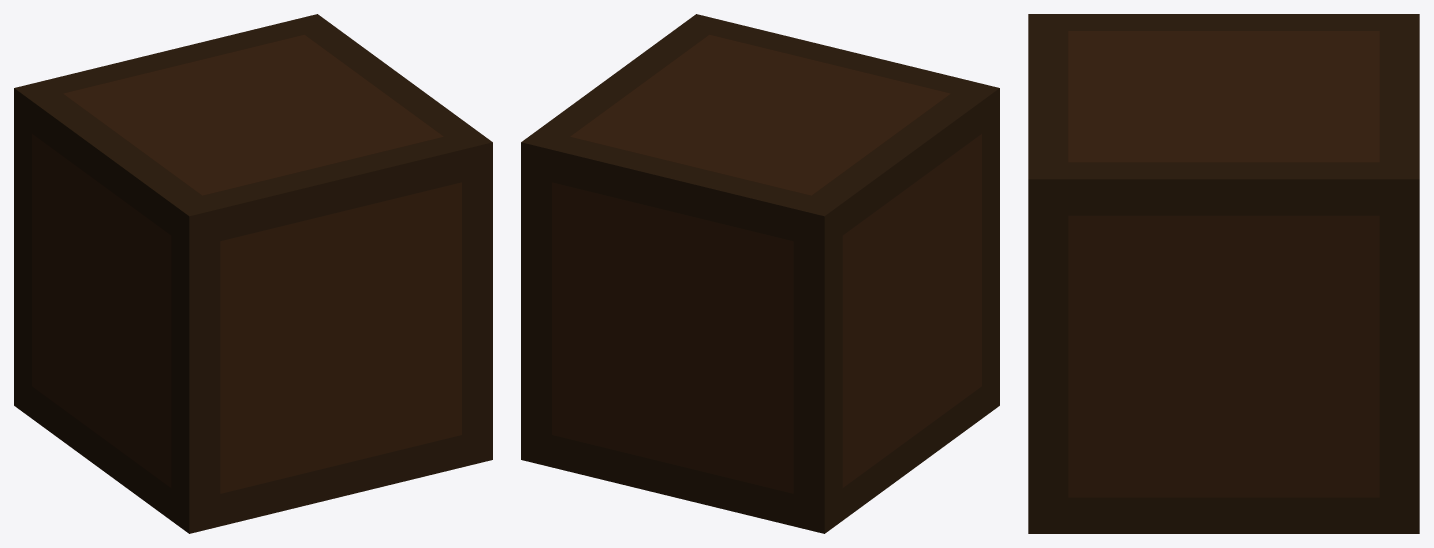
File: woodenCrate_type_01.fbx
3 views of the same model, side by side, from view 1: azimuth 30°, elevation 25°; view 2: azimuth 150°, elevation 25°; view 3: azimuth 270°, elevation 25° (orthographic). The views are drawn at different scales.
Parts seen in each view (by area): view 1: woodenCrate_type_01; view 2: woodenCrate_type_01; view 3: woodenCrate_type_01.
Part boxes in pixels (x1,y1,x2,y2): woodenCrate_type_01: (14, 14, 492, 533); woodenCrate_type_01: (521, 14, 999, 533); woodenCrate_type_01: (1028, 14, 1419, 533).
Bounding box in the file's own units: 47.29 × 47.29 × 47.29.
